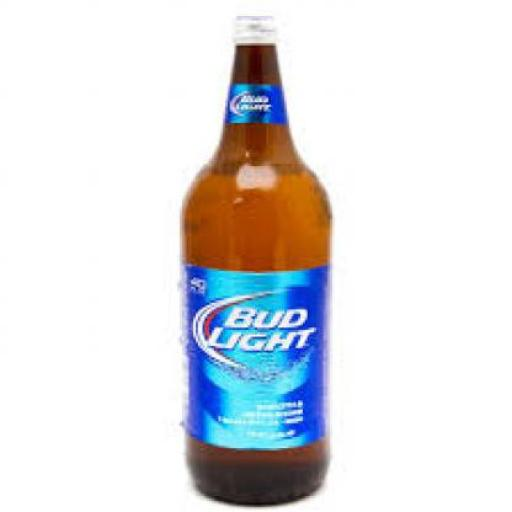glass: (178, 43, 332, 503)
metal: (230, 11, 275, 43)
